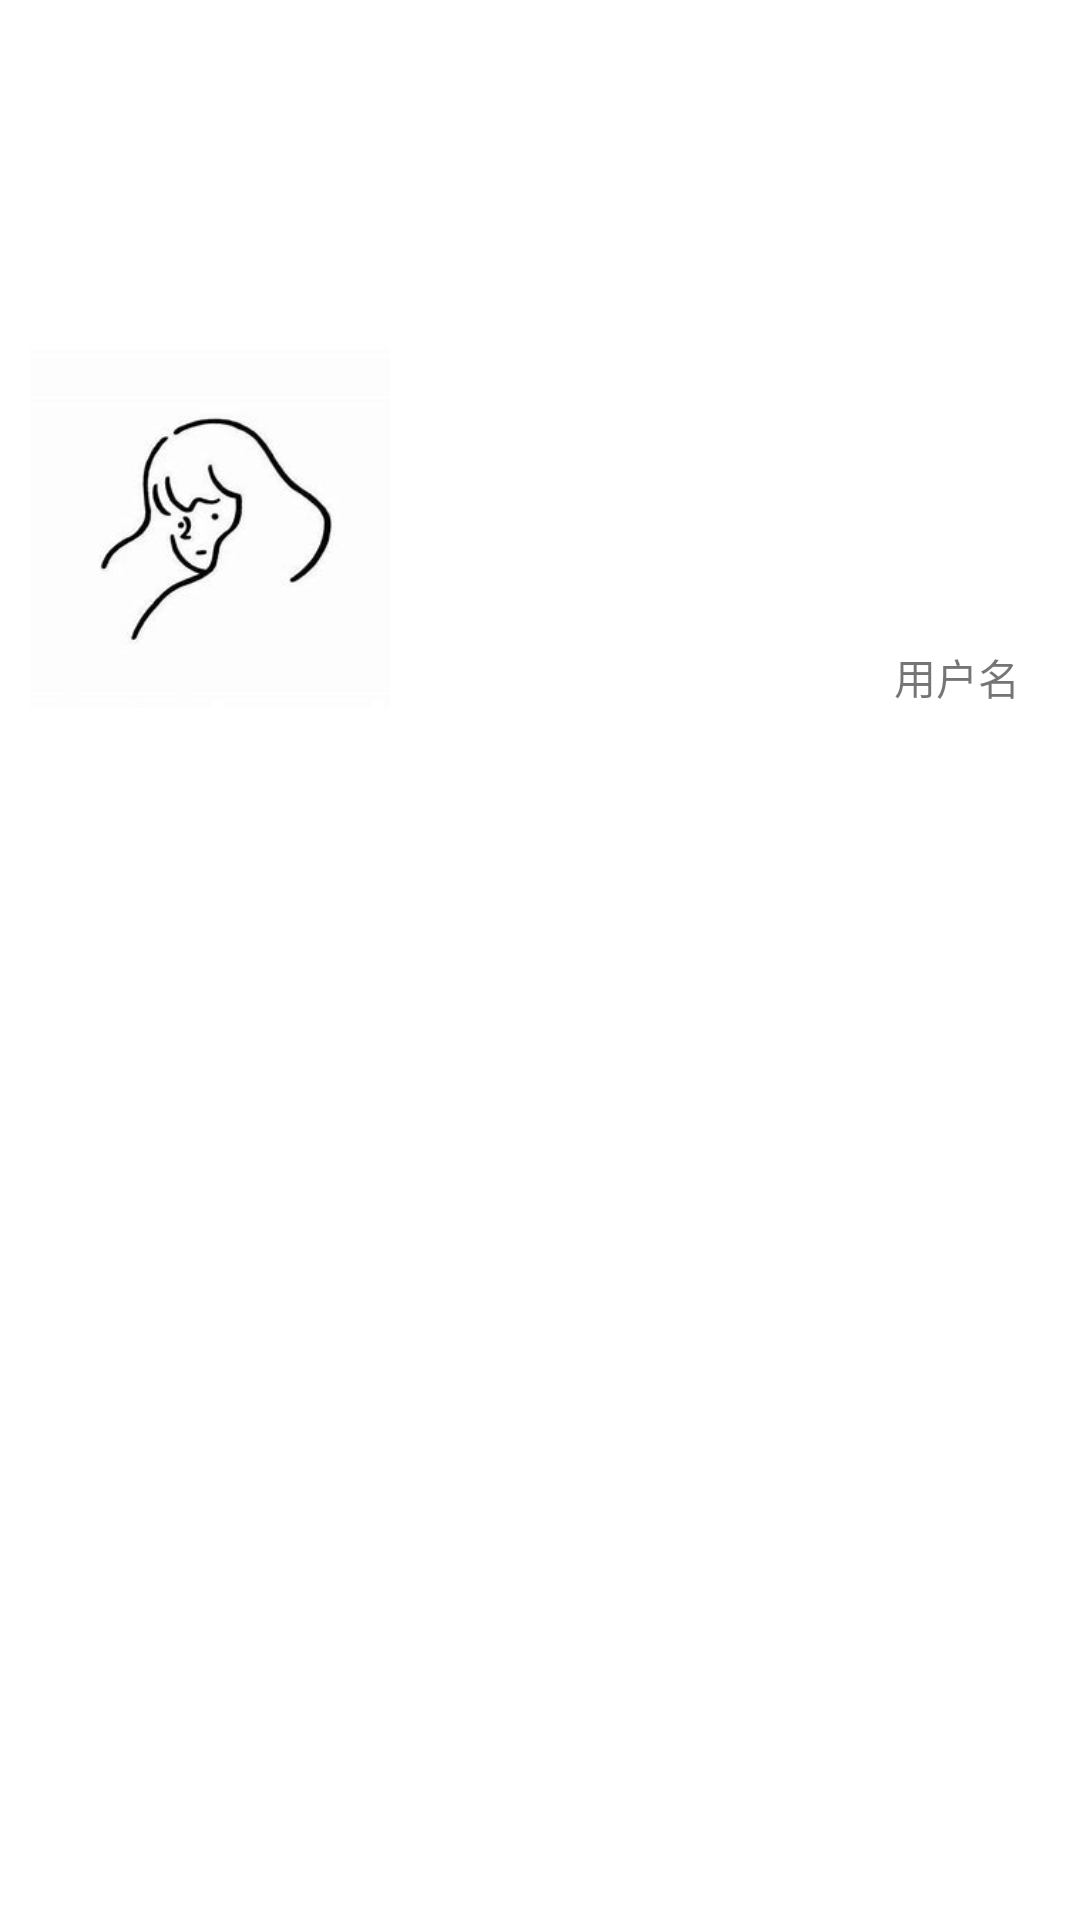

Icon click points for this 1080px×1920px phone screenshot, format point (x, y):
user: point (216, 529)
